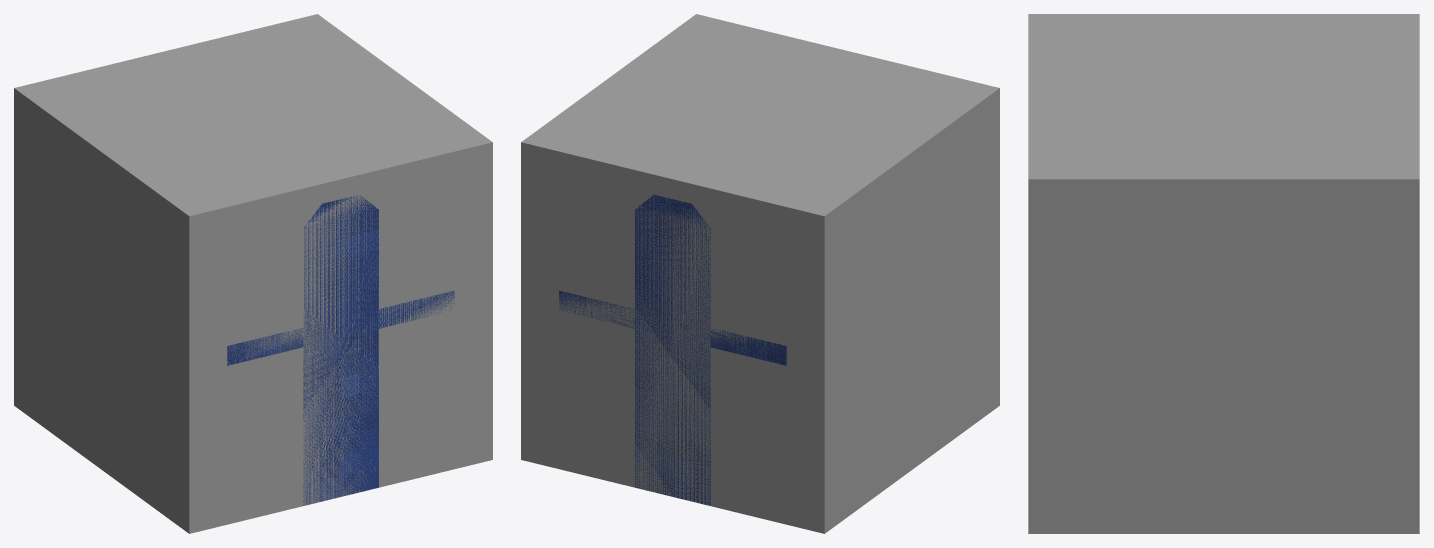
File: platemachineb.obj
3 views of the same model, side by side, from view 1: azimuth 30°, elevation 25°; view 2: azimuth 150°, elevation 25°; view 3: azimuth 270°, elevation 25° (orthographic). The views are drawn at different scales.
Parts seen in each view (by area): view 1: Minecraft_Block_Cube, main; view 2: Minecraft_Block_Cube, main; view 3: Minecraft_Block_Cube.
Boxes of the visible parts, box(x1,y1,x2,y2) form: Minecraft_Block_Cube: box(14, 14, 492, 533); main: box(227, 195, 454, 505); Minecraft_Block_Cube: box(521, 14, 999, 533); main: box(559, 195, 786, 505); Minecraft_Block_Cube: box(1028, 14, 1419, 533).
Bounding box in the file's own units: 1 × 1 × 1.
Materials: 2 (1 with a texture image).
